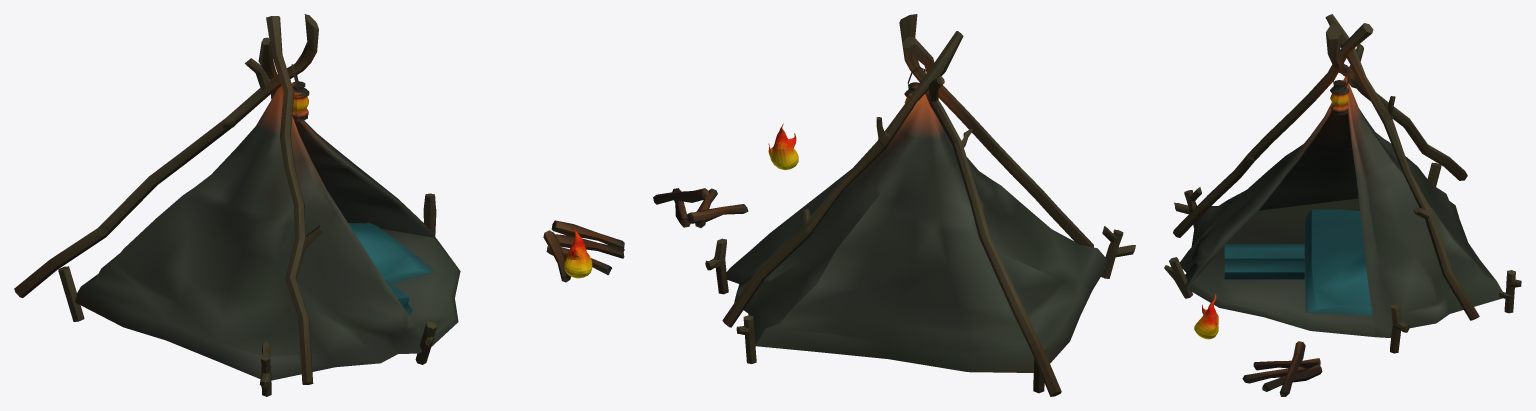
Rendered from camp-scene.glb.
3 renders of one model, left to right at view 1: azimuth 30°, elevation 25°; view 2: azimuth 150°, elevation 25°; view 3: azimuth 270°, elevation 25°, orthographic. The views are drawn at different scales.
Parts seen in each view (by area): view 1: camp; view 2: camp; view 3: camp.
Part boxes in pixels (x1,y1,x2,y2): camp: [14, 14, 624, 396]; camp: [653, 14, 1135, 396]; camp: [1164, 14, 1521, 396].
Size of the model in its own units: 7.12 by 4 by 4.89.
